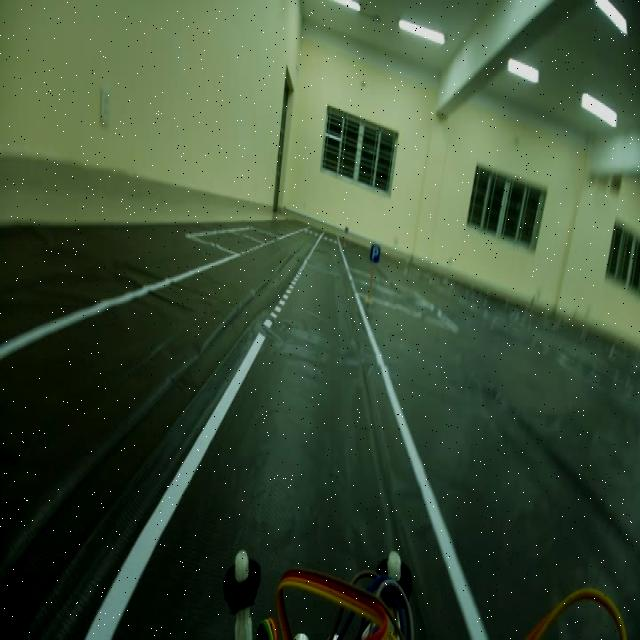parking: (368, 236, 384, 269)
